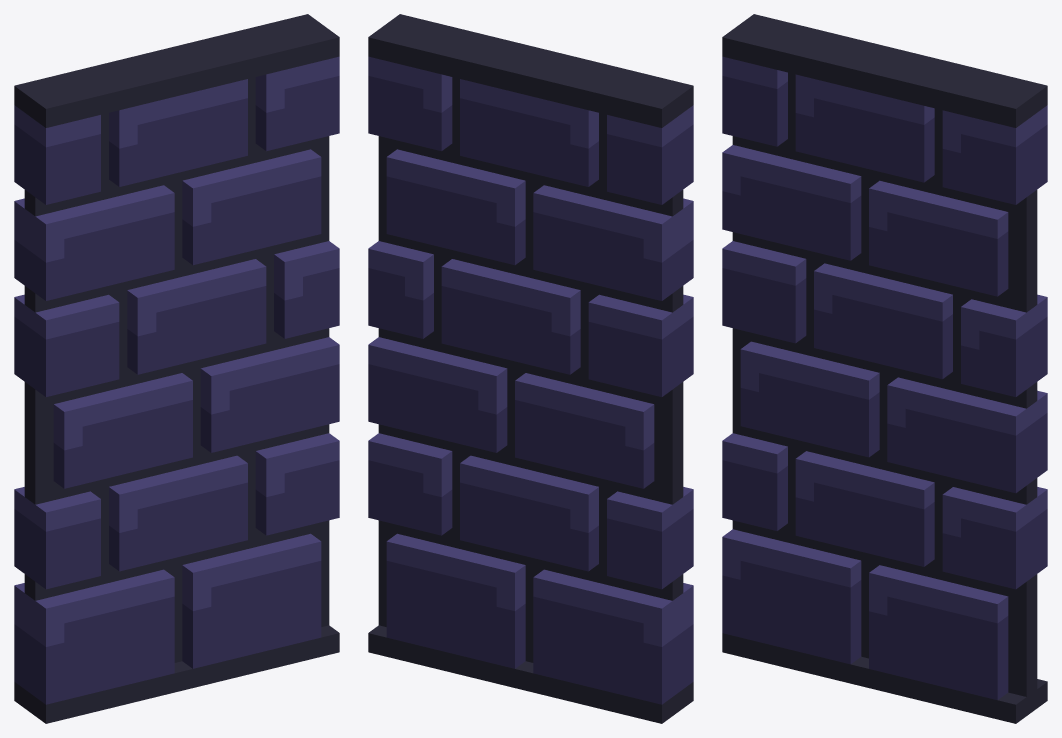
The model's file is wall_raised.obj.
3 views of the same model, side by side, from view 1: azimuth 30°, elevation 25°; view 2: azimuth 150°, elevation 25°; view 3: azimuth 330°, elevation 25° (orthographic).
Bounding box in the file's own units: 1.6 × 3.2 × 0.3.
1 material, 1 textured.
